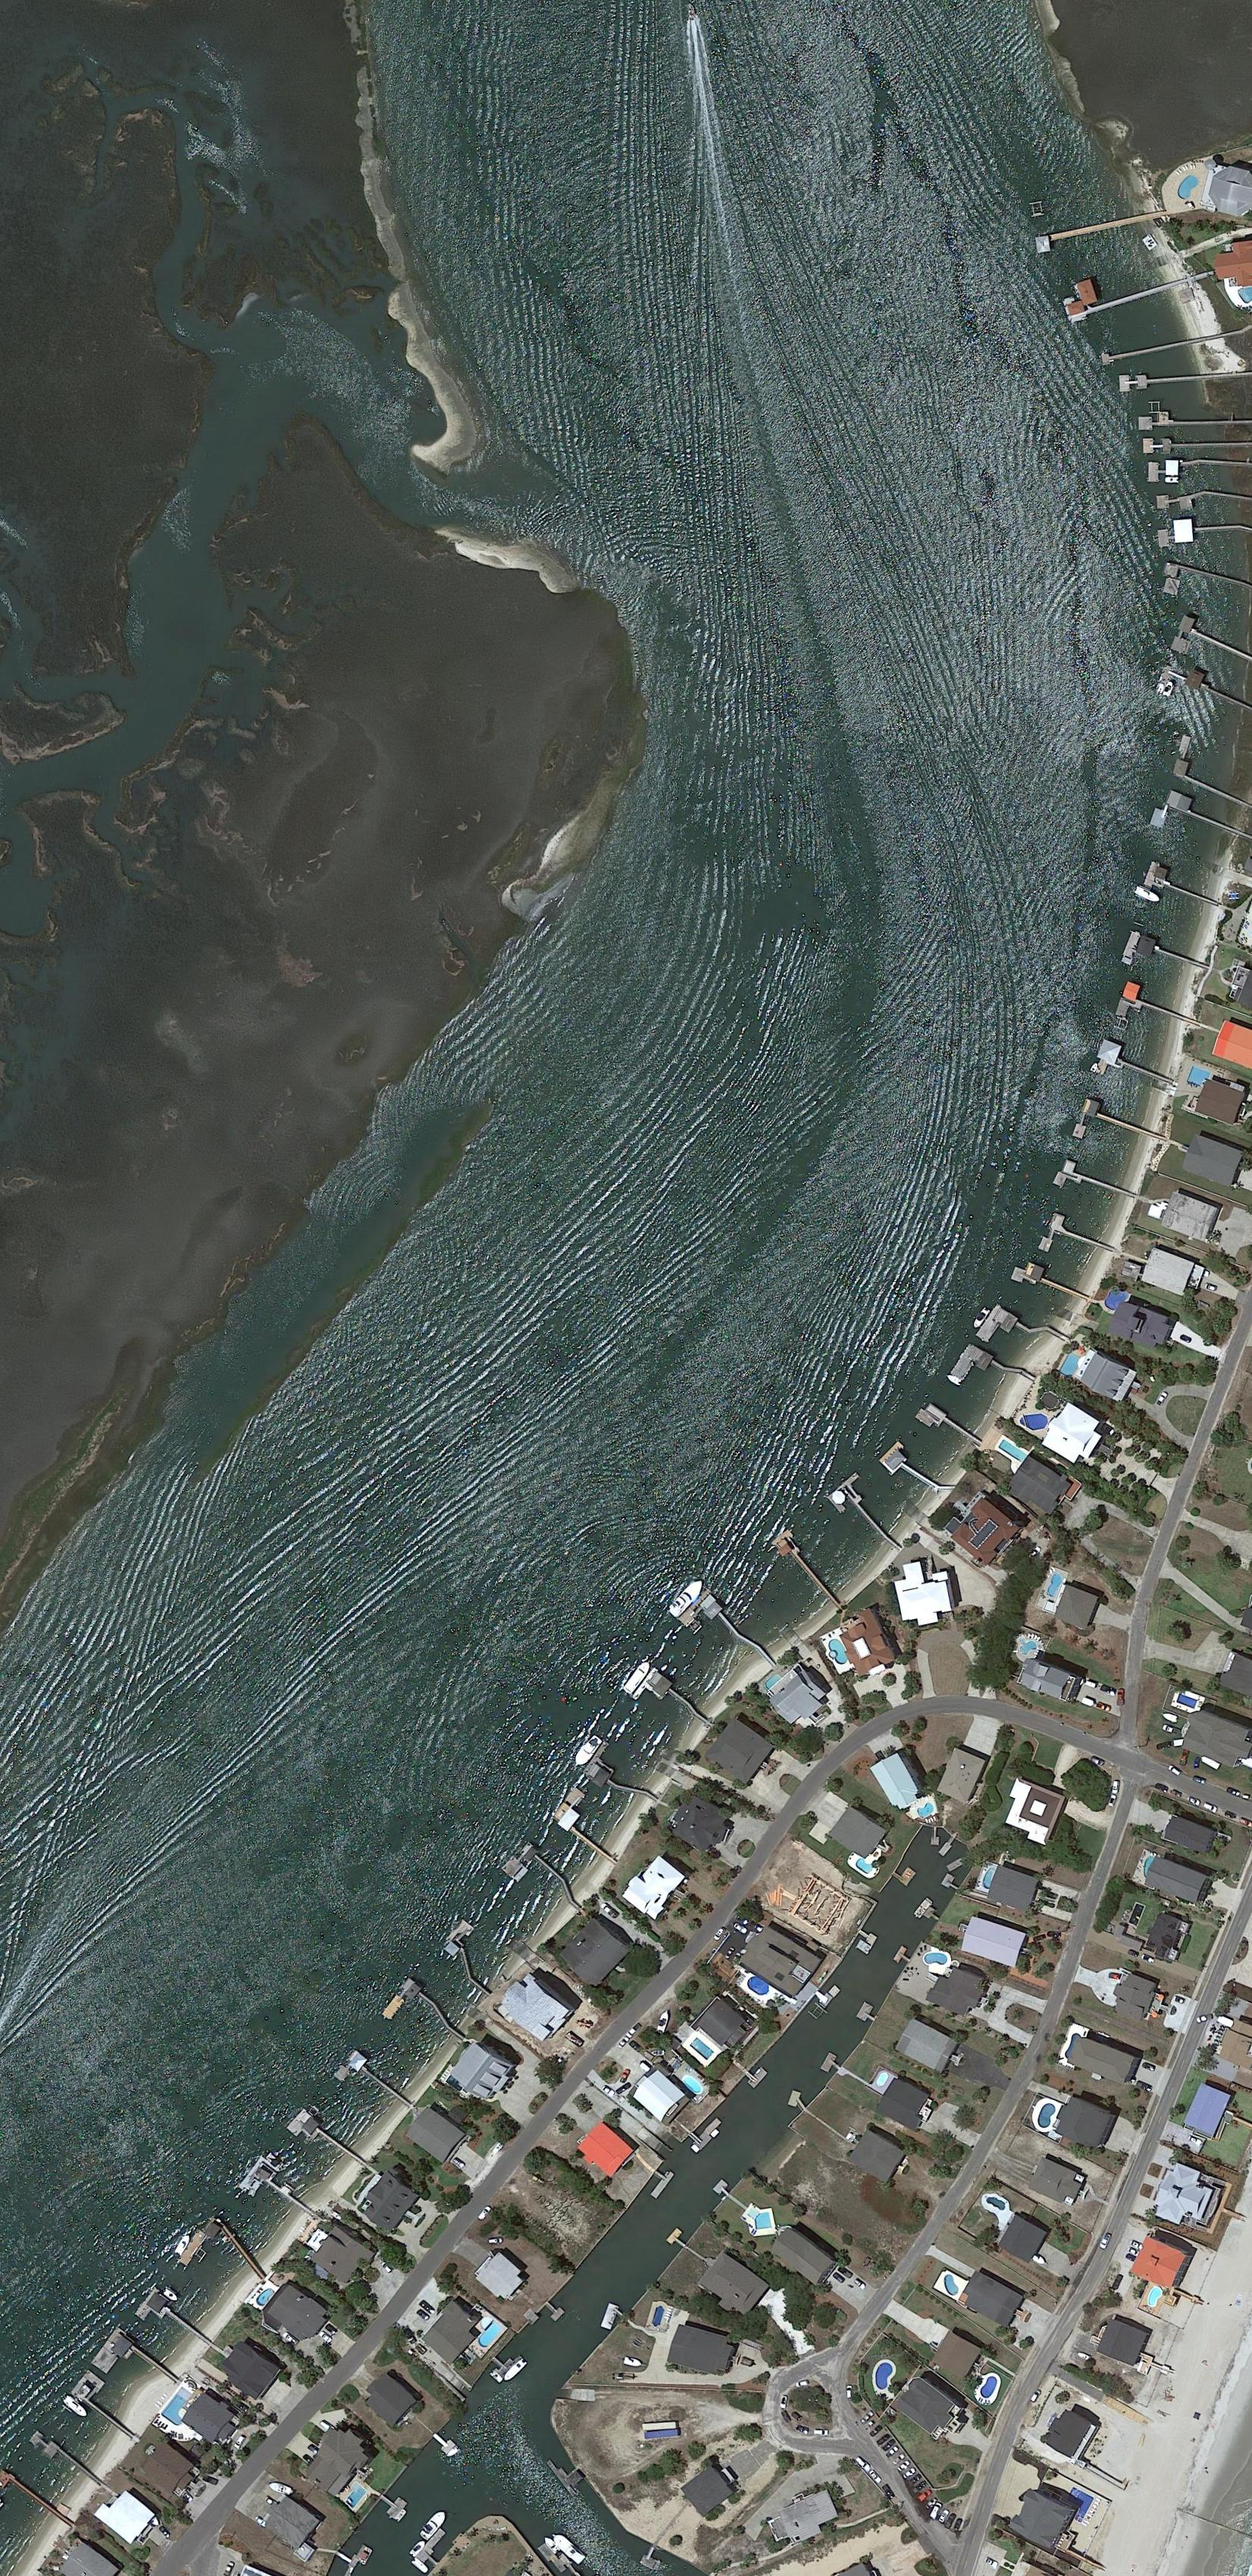harbor: (1059, 255, 1190, 324), (91, 2327, 180, 2408), (382, 1977, 462, 2057), (333, 2049, 415, 2127), (436, 1919, 515, 1997), (239, 2156, 320, 2231), (285, 2107, 367, 2182), (551, 1787, 630, 1862), (135, 2287, 214, 2359), (70, 2369, 149, 2440), (1036, 211, 1166, 254), (828, 1473, 899, 1550), (583, 1740, 661, 1811), (772, 1530, 842, 1608), (1160, 658, 1249, 719), (1170, 615, 1250, 679), (1, 2467, 74, 2537), (1115, 980, 1195, 1042), (1038, 1211, 1116, 1274), (1053, 1157, 1137, 1213), (30, 2430, 102, 2494), (1123, 930, 1204, 987), (678, 1589, 744, 1658), (1092, 1039, 1170, 1097), (501, 1840, 569, 1905), (1100, 331, 1219, 367), (1144, 861, 1220, 914), (1012, 1258, 1090, 1309), (879, 1441, 942, 1505), (632, 1667, 693, 1728), (916, 1400, 981, 1455), (1172, 758, 1247, 805), (1166, 790, 1242, 836), (1163, 561, 1246, 599), (1081, 1098, 1157, 1140), (976, 1304, 1032, 1359), (950, 1342, 1006, 1398), (1119, 367, 1241, 392), (1148, 457, 1248, 485), (177, 2215, 224, 2272), (1157, 518, 1241, 547), (547, 2451, 591, 2498), (1139, 411, 1249, 430), (1150, 486, 1208, 518), (1144, 438, 1247, 454), (415, 2528, 449, 2565), (489, 2343, 523, 2380), (691, 2118, 726, 2150), (644, 2165, 675, 2199), (600, 2303, 631, 2334), (377, 2487, 408, 2519), (812, 1980, 841, 2011), (783, 2086, 811, 2117), (640, 2543, 666, 2572), (853, 1927, 878, 1955), (743, 2062, 768, 2090), (431, 2430, 457, 2456), (820, 2052, 844, 2077), (893, 1862, 917, 1887), (666, 2227, 690, 2252), (1150, 802, 1171, 829), (856, 2002, 879, 2026), (543, 2298, 565, 2322), (893, 1946, 914, 1968), (1207, 491, 1252, 502), (938, 1835, 959, 1858), (1072, 1114, 1090, 1140), (942, 1873, 962, 1893), (713, 2179, 733, 2199), (923, 1906, 942, 1925), (947, 1857, 967, 1873), (931, 1827, 941, 1846)
ship: (665, 1574, 708, 1619), (550, 2531, 588, 2568), (570, 1733, 605, 1772), (621, 1658, 654, 1699), (417, 2508, 452, 2543), (502, 2357, 529, 2384), (62, 2394, 90, 2420), (1133, 884, 1163, 905), (969, 1305, 992, 1330), (267, 2479, 296, 2497), (171, 2233, 192, 2257), (656, 2008, 672, 2036), (407, 2538, 428, 2559), (542, 2536, 562, 2558), (162, 2285, 181, 2303), (1161, 680, 1175, 699), (492, 2140, 505, 2157), (623, 2356, 643, 2368), (650, 2049, 665, 2056)
